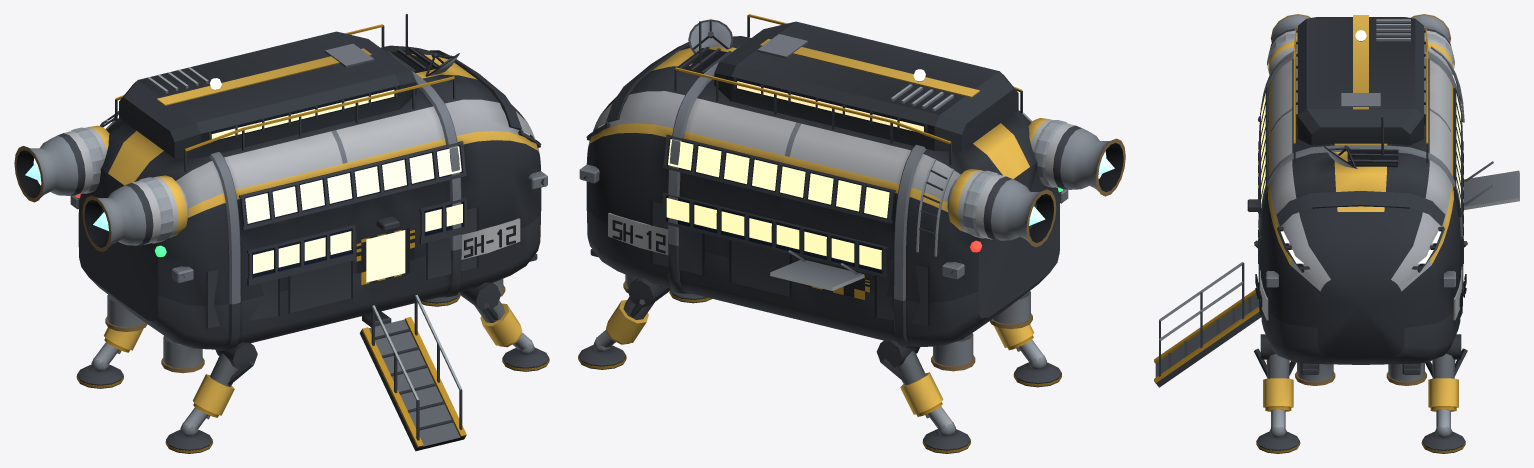
The model's file is ship_shuttle.glb.
The picture shows the model from 3 angles, left to right: view 1: azimuth 30°, elevation 25°; view 2: azimuth 150°, elevation 25°; view 3: azimuth 270°, elevation 25°; orthographic projection. The views are drawn at different scales.
Visible parts, largest first — view 1: Hull, Lights, Ramp, Leg_RR, Leg_FR, Leg_RL; view 2: Hull, Lights, Leg_RL, Leg_FL, Leg_RR, Door_Cargo; view 3: Hull, Ramp, Leg_FR, Leg_FL, Door_Cargo, Lights.
Boxes of the visible parts, box(x1,y1,x2,y2) form: Hull: box(14, 14, 547, 373); Lights: box(75, 78, 529, 282); Ramp: box(359, 294, 466, 451); Leg_RR: box(165, 342, 257, 453); Leg_FR: box(459, 282, 549, 371); Leg_RL: box(76, 327, 143, 388); Hull: box(579, 14, 1125, 371); Lights: box(598, 69, 1062, 269); Leg_RL: box(876, 339, 970, 453); Leg_FL: box(578, 278, 669, 369); Leg_RR: box(994, 324, 1061, 387); Door_Cargo: box(770, 250, 864, 290); Hull: box(1247, 14, 1466, 385); Ramp: box(1154, 262, 1260, 387); Leg_FR: box(1254, 334, 1300, 453); Leg_FL: box(1421, 334, 1467, 453); Door_Cargo: box(1464, 161, 1519, 209); Lights: box(1255, 30, 1463, 263).
Bounding box in the file's own units: 11.38 × 7.58 × 8.4.
